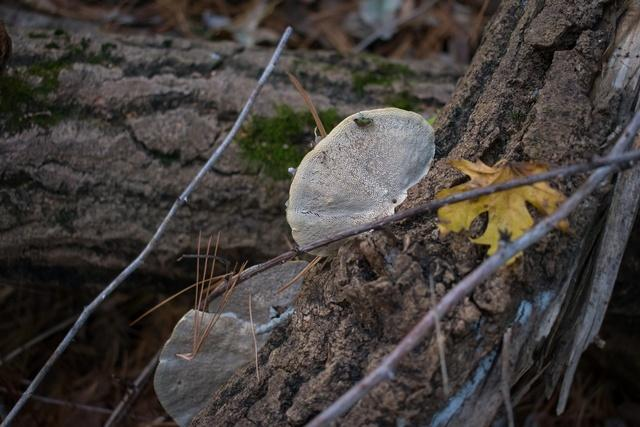poisonous_mushroom: (283, 105, 436, 258)
